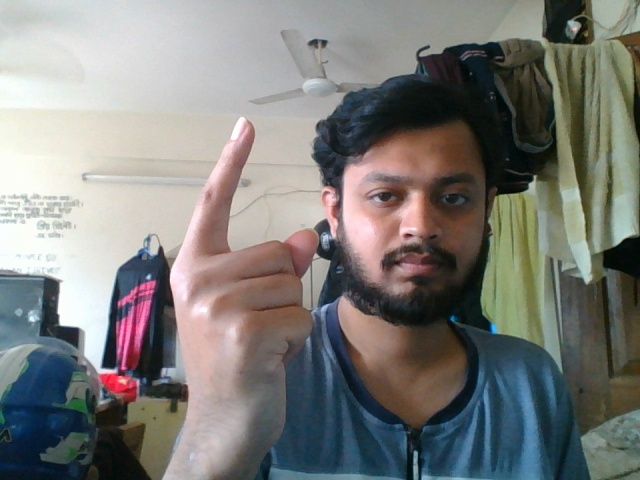u: (159, 111, 328, 439)
